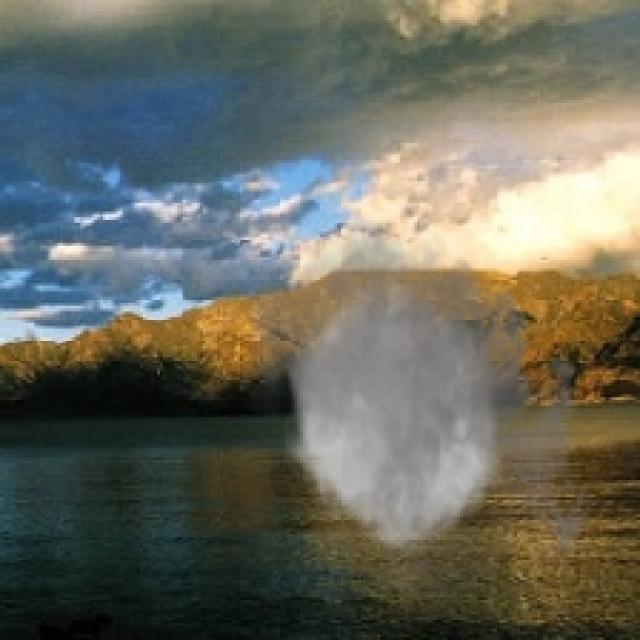Smoke: (235, 203, 600, 626)
